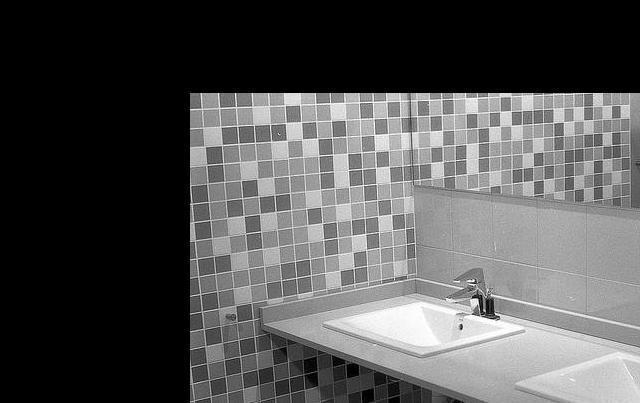Lavamanos: (318, 270, 522, 363), (508, 296, 640, 403)
